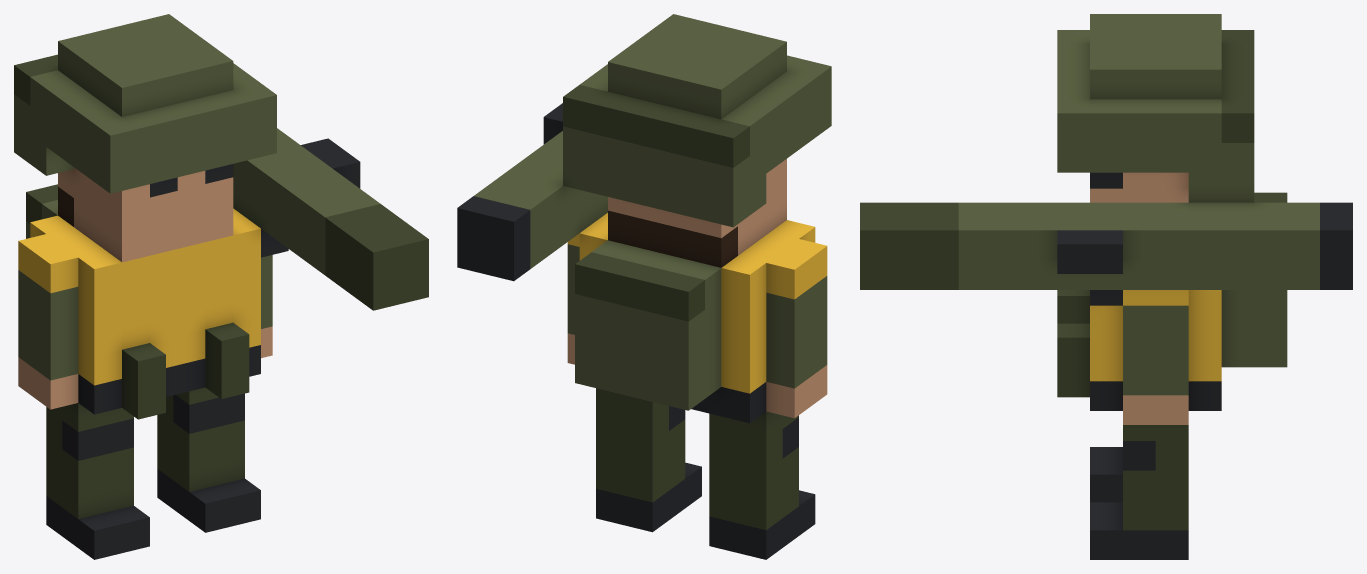
3 renders of one model, left to right at view 1: azimuth 30°, elevation 25°; view 2: azimuth 150°, elevation 25°; view 3: azimuth 270°, elevation 25°, orthographic. The views are drawn at different scales.
Visible parts, largest first — view 1: cm_at_2_body; view 2: cm_at_2_body; view 3: cm_at_2_body.
Part boxes in pixels (x1,y1,x2,y2): cm_at_2_body: (14, 14, 428, 559); cm_at_2_body: (457, 14, 831, 559); cm_at_2_body: (860, 14, 1352, 559).
Bounding box in the file's own units: 0.625 × 1 × 0.9375.
Materials: 1 (1 with a texture image).
